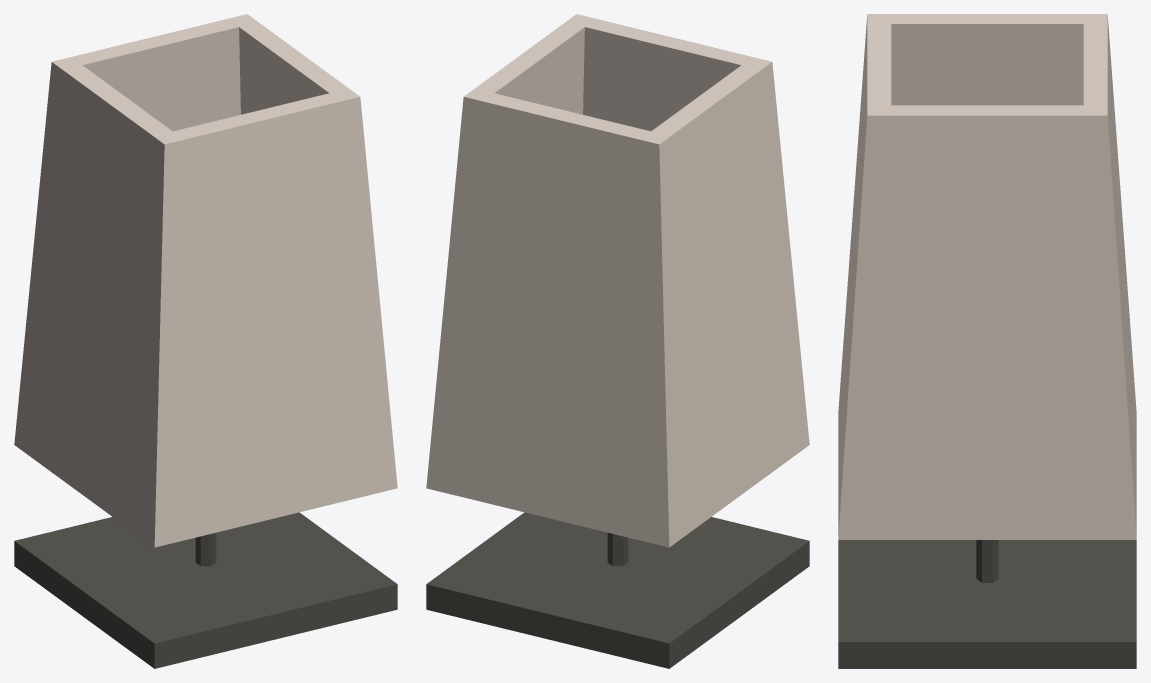
Rendered from SM_Props_Interior_House_Room_Lamp_01.fbx.
3 renders of one model, left to right at view 1: azimuth 30°, elevation 25°; view 2: azimuth 150°, elevation 25°; view 3: azimuth 270°, elevation 25°, orthographic. The views are drawn at different scales.
Parts seen in each view (by area): view 1: SM_Props_Interior_House_Room_Lamp_01; view 2: SM_Props_Interior_House_Room_Lamp_01; view 3: SM_Props_Interior_House_Room_Lamp_01.
Boxes of the visible parts, bbox=[...] form: SM_Props_Interior_House_Room_Lamp_01: bbox=[14, 14, 397, 668]; SM_Props_Interior_House_Room_Lamp_01: bbox=[426, 14, 809, 668]; SM_Props_Interior_House_Room_Lamp_01: bbox=[838, 14, 1136, 668].
Size of the model in its own units: 12 by 24 by 12.
